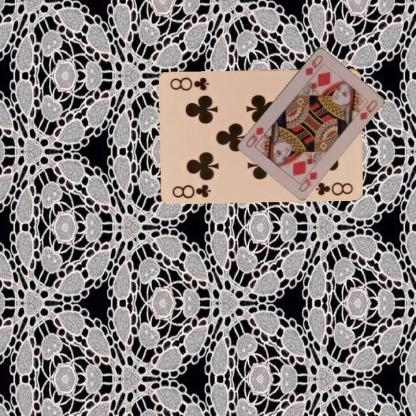8c: (170, 181, 212, 199)
Qd: (296, 164, 318, 193), (303, 52, 324, 76)
